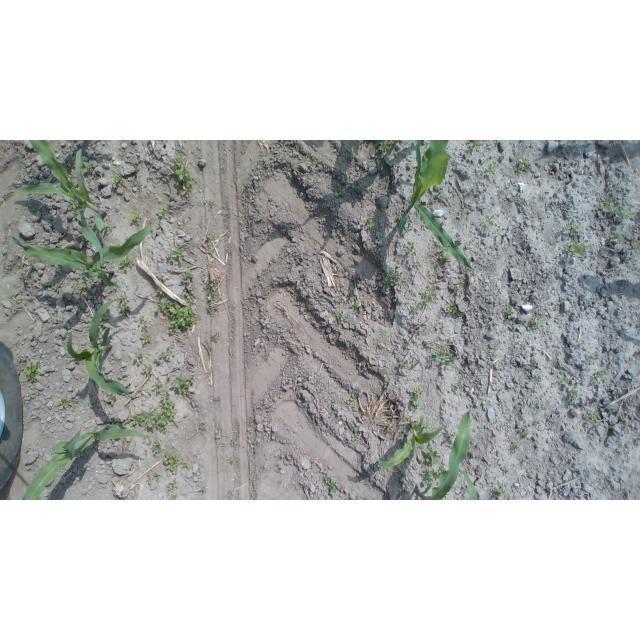Maize: (398, 140, 490, 276), (10, 141, 108, 267), (11, 222, 158, 290), (22, 424, 149, 500), (67, 299, 137, 400), (413, 409, 477, 500), (378, 412, 443, 469)
Weeds: (130, 392, 178, 434), (152, 298, 196, 335), (174, 158, 194, 196), (164, 452, 191, 474), (432, 343, 457, 365), (170, 373, 195, 395), (382, 267, 403, 291), (25, 359, 44, 384), (569, 240, 592, 260), (411, 388, 425, 412), (117, 293, 131, 316), (166, 247, 186, 262), (208, 284, 219, 311), (424, 448, 441, 465), (437, 247, 456, 262), (446, 300, 463, 316), (56, 398, 76, 411), (515, 156, 531, 172), (360, 213, 377, 228), (615, 205, 633, 219), (324, 476, 336, 496), (375, 140, 395, 152), (118, 257, 134, 272), (592, 369, 609, 383), (112, 171, 125, 189), (598, 202, 620, 212), (156, 207, 172, 220), (82, 156, 94, 173), (531, 315, 545, 329), (589, 414, 604, 427), (422, 288, 434, 304), (566, 222, 585, 232), (484, 163, 497, 177), (132, 210, 145, 224), (423, 470, 440, 480), (68, 201, 81, 214), (351, 299, 363, 313), (472, 181, 483, 195), (145, 473, 159, 484), (405, 244, 416, 257), (140, 333, 153, 344), (106, 393, 117, 406), (152, 441, 161, 456), (183, 271, 195, 282), (139, 316, 150, 328), (132, 352, 144, 363), (498, 488, 511, 498), (569, 390, 579, 403), (484, 215, 494, 228), (337, 184, 347, 197), (609, 233, 620, 244), (420, 423, 431, 434), (373, 258, 384, 269), (307, 159, 318, 170), (456, 279, 464, 293), (183, 291, 197, 299), (504, 309, 514, 320), (142, 364, 153, 374), (76, 283, 87, 293), (448, 430, 457, 442), (152, 383, 162, 393), (168, 479, 177, 490), (468, 140, 480, 148), (399, 359, 409, 368), (412, 303, 423, 311), (520, 428, 529, 437), (362, 364, 371, 373), (337, 313, 345, 323), (400, 430, 408, 440), (350, 433, 358, 442), (591, 357, 600, 365), (161, 351, 170, 359), (52, 284, 61, 292), (69, 155, 76, 165), (501, 184, 509, 192), (156, 287, 164, 295), (351, 395, 358, 403), (560, 378, 568, 385), (199, 421, 205, 430), (209, 336, 219, 341), (457, 384, 464, 391), (214, 397, 221, 404), (23, 259, 30, 266), (104, 222, 112, 228), (539, 403, 546, 409), (340, 297, 347, 303), (89, 403, 96, 409), (108, 420, 116, 425), (207, 200, 213, 206), (523, 459, 529, 465), (440, 468, 447, 473), (633, 244, 640, 249), (354, 260, 361, 265), (202, 485, 207, 492), (516, 445, 521, 451), (415, 260, 420, 266), (170, 495, 176, 500), (250, 495, 256, 500), (581, 342, 586, 347), (125, 236, 130, 241), (276, 468, 281, 473), (332, 398, 337, 402), (355, 331, 360, 335), (370, 159, 375, 163), (382, 398, 386, 402), (498, 141, 502, 144), (92, 444, 96, 447)
